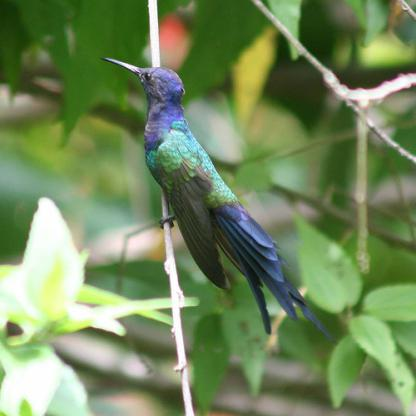bird: (98, 55, 339, 346)
